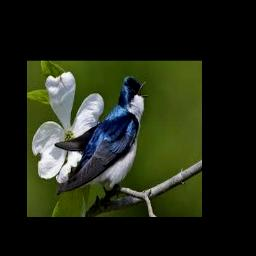Swallow: (55, 76, 149, 198)
